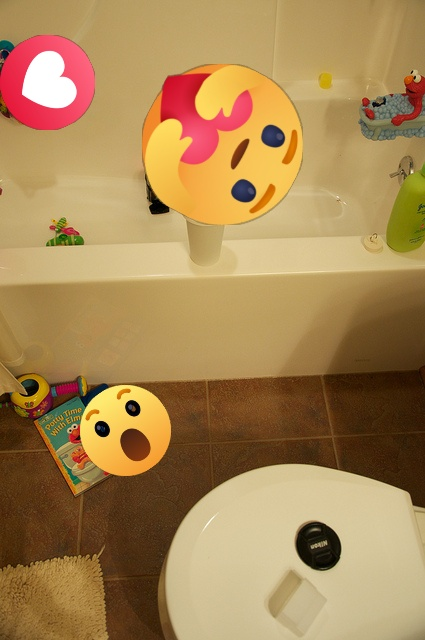care: (142, 64, 303, 225)
love: (0, 35, 95, 130)
wow: (80, 385, 171, 476)
